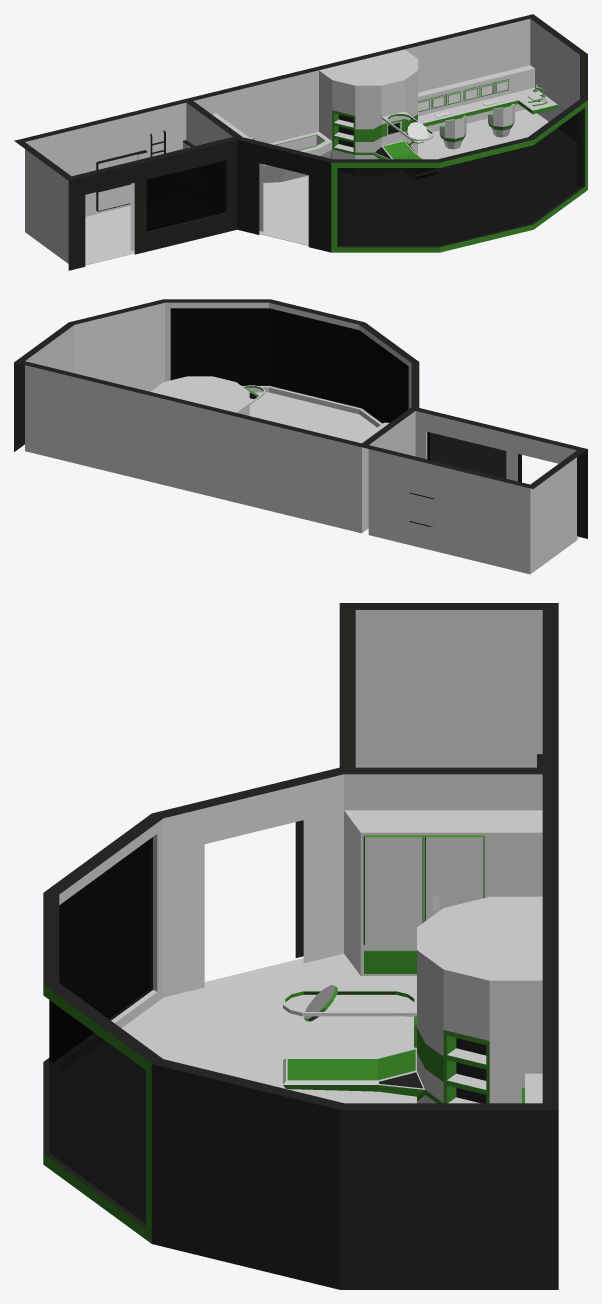
File: Surgery_Room.fbx
3 views of the same model, one above another, from view 1: azimuth 30°, elevation 25°; view 2: azimuth 150°, elevation 25°; view 3: azimuth 270°, elevation 25° (orthographic). The views are drawn at different scales.
Parts seen in each view (by area): view 1: Surgery_Room; view 2: Surgery_Room; view 3: Surgery_Room.
Part boxes in pixels (bbox=[...]): Surgery_Room: bbox=[14, 14, 587, 270]; Surgery_Room: bbox=[14, 299, 587, 574]; Surgery_Room: bbox=[43, 603, 558, 1289].
Bounding box in the file's own units: 30.2 × 12.98 × 5.
